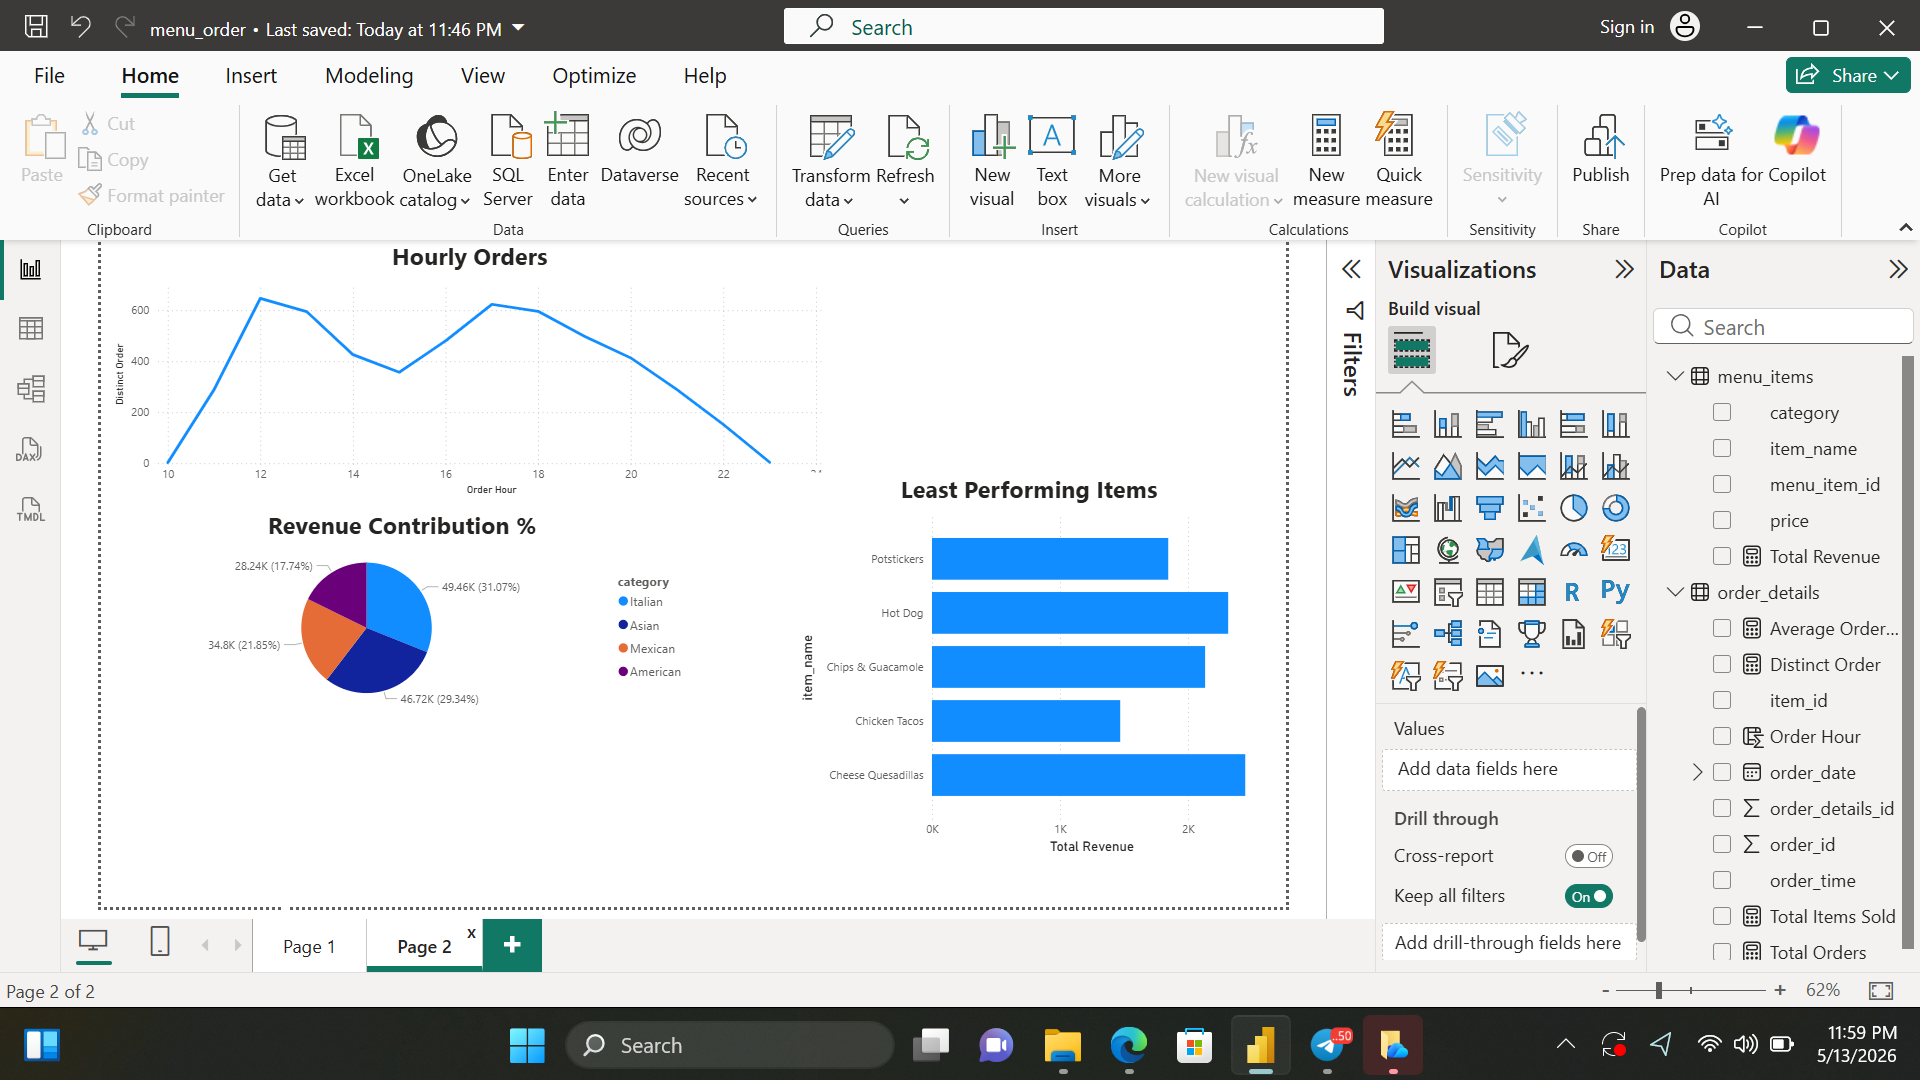

This screenshot's page, from the dashboard's own definition file:
{"tool":"powerbi","page":{"name":"Page 2","canvas":[1280,720],"ordinal":1},"visuals":[{"type":"lineChart","title":"Hourly Orders","fields":{"Category":["order_details.Order Hour"],"Y":["order_details.Distinct Order"]},"box":[9.4,0,776.7,279.7],"z":0},{"type":"pieChart","title":"Revenue Contribution %","fields":{"Y":["menu_items.Total Revenue"],"Category":["menu_items.category"]},"box":[9.4,289.1,631.2,223],"z":1000},{"type":"barChart","title":"Least Performing Items","fields":{"Category":["menu_items.item_name"],"Y":["menu_items.Total Revenue"]},"box":[750.2,251.3,504.6,415.8],"z":2000}]}

Visuals, with their boxes on the page's 1280x720 design canvas (x1, y1, x2, y2). These are canvas units, not pixel positions in the 1920x1080 screenshot, which may show the page scaled, cropped or inside an application window:
"Hourly Orders" lineChart: [x1=9, y1=0, x2=786, y2=280]
"Revenue Contribution %" pieChart: [x1=9, y1=289, x2=641, y2=512]
"Least Performing Items" barChart: [x1=750, y1=251, x2=1255, y2=667]
